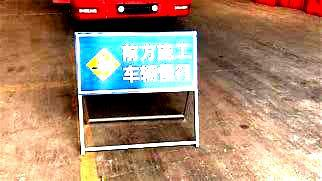sign: (76, 33, 195, 90)
